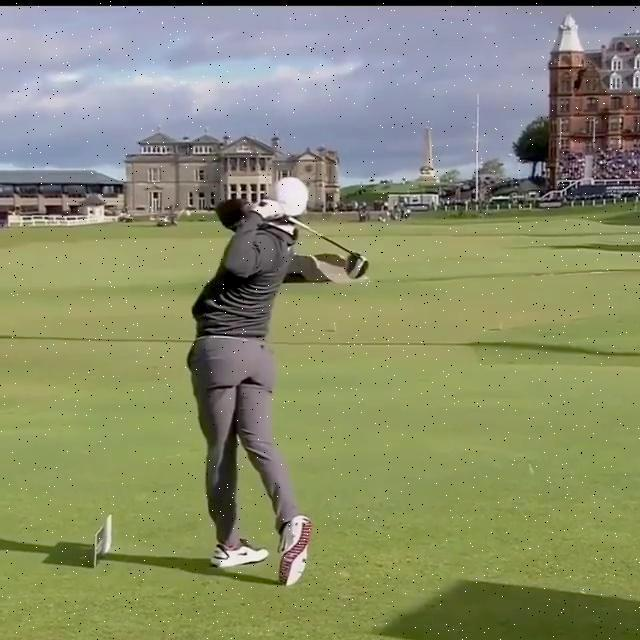ClubHead: (344, 251, 367, 280)
